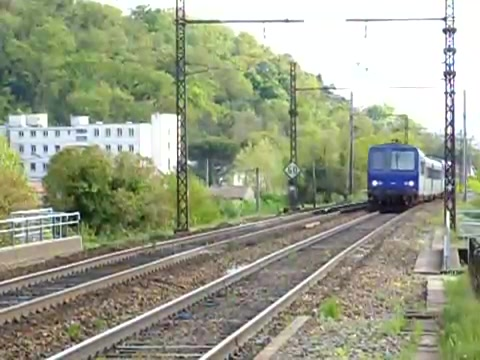train: (366, 141, 448, 213)
